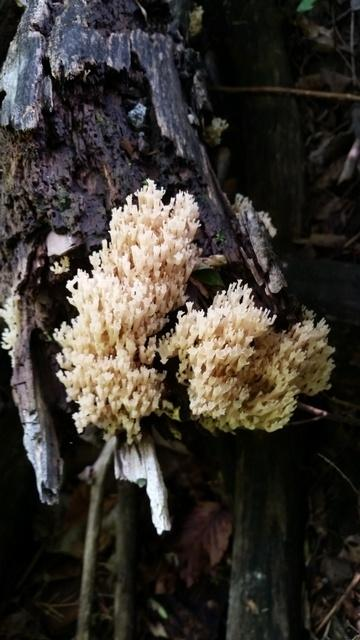Edible Mushroom: (50, 176, 204, 440), (154, 277, 335, 434)
